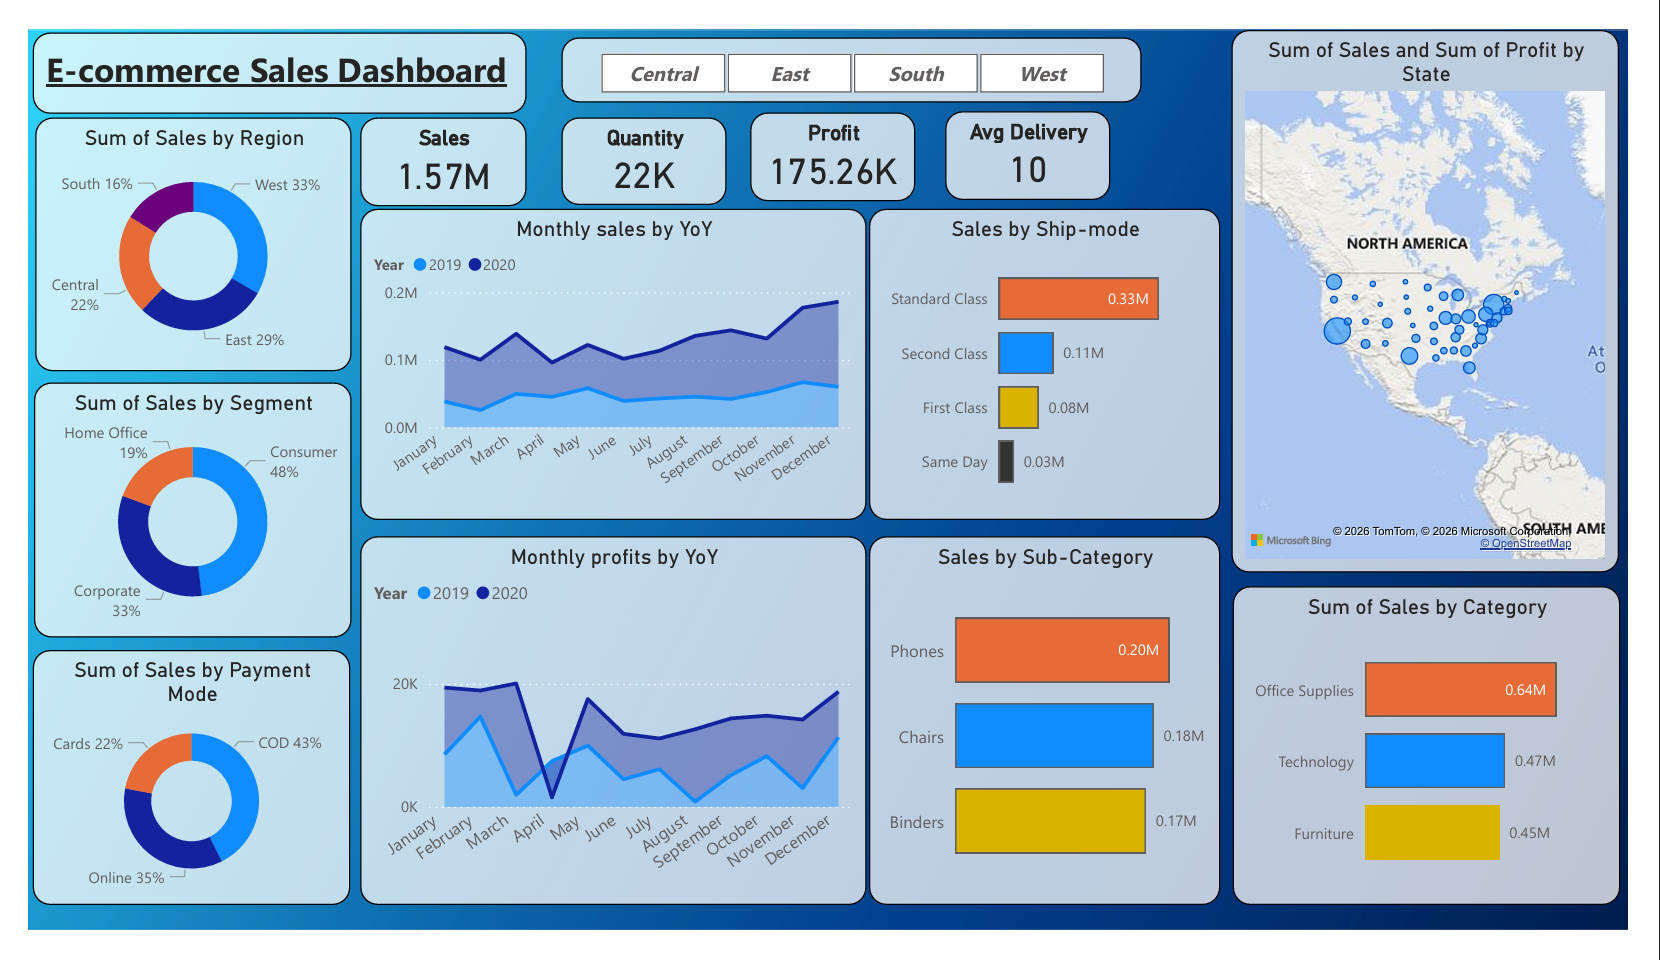

The dashboard page shown, as its layout file describes it:
{"tool":"powerbi","page":{"name":"Page 1","canvas":[1280,720],"ordinal":0},"visuals":[{"type":"clusteredBarChart","fields":{"Category":["SuperStore_Sales_Dataset.Category"],"Y":["Sum(SuperStore_Sales_Dataset.Sales)"]},"box":[962.8,445.4,310.5,254.7],"z":0},{"type":"clusteredBarChart","title":"Sales by Sub-Category","fields":{"Category":["SuperStore_Sales_Dataset.Sub-Category"],"Y":["Sum(SuperStore_Sales_Dataset.Sales)"]},"box":[672.1,404.7,281.4,295.3],"z":1000},{"type":"clusteredBarChart","title":"Sales by Ship-mode","fields":{"Category":["SuperStore_Sales_Dataset.Ship Mode"],"Y":["Sum(SuperStore_Sales_Dataset.Sales)"]},"box":[672.1,143,281.4,248.8],"z":2000},{"type":"stackedAreaChart","title":"Monthly sales by YoY","fields":{"Category":["SuperStore_Sales_Dataset.Order Date.Variation.Date Hierarchy.Month","SuperStore_Sales_Dataset.Order Date.Variation.Date Hierarchy.Day"],"Y":["Sum(SuperStore_Sales_Dataset.Sales)"],"Series":["SuperStore_Sales_Dataset.Order Date.Variation.Date Hierarchy.Year"]},"box":[265.1,143,404.7,248.8],"z":3000},{"type":"stackedAreaChart","title":"Monthly profits by YoY","fields":{"Category":["SuperStore_Sales_Dataset.Order Date.Variation.Date Hierarchy.Month","SuperStore_Sales_Dataset.Order Date.Variation.Date Hierarchy.Day"],"Series":["SuperStore_Sales_Dataset.Order Date.Variation.Date Hierarchy.Year"],"Y":["Sum(SuperStore_Sales_Dataset.Profit)"]},"box":[265.1,404.7,404.7,295.3],"z":4000},{"type":"map","fields":{"Category":["SuperStore_Sales_Dataset.State"],"Size":["Sum(SuperStore_Sales_Dataset.Sales)"]},"box":[961.6,0,310.5,433.7],"z":5000},{"type":"donutChart","fields":{"Category":["SuperStore_Sales_Dataset.Segment"],"Y":["Sum(SuperStore_Sales_Dataset.Sales)"]},"box":[4.1,282.3,253.6,203.3],"z":6000},{"type":"donutChart","fields":{"Y":["Sum(SuperStore_Sales_Dataset.Sales)"],"Category":["SuperStore_Sales_Dataset.Payment Mode"]},"box":[3.1,495.9,253.6,204.3],"z":7000},{"type":"slicer","fields":{"Values":["SuperStore_Sales_Dataset.Region"]},"box":[425.6,5.8,464,52.3],"z":8000},{"type":"textbox","box":[3.5,2.3,394.2,65.1],"z":9000},{"type":"card","title":"Sales","fields":{"Values":["Sum(SuperStore_Sales_Dataset.Sales)"]},"box":[265.1,69.8,132.6,70.9],"z":10000},{"type":"card","title":"Quantity","fields":{"Values":["Sum(SuperStore_Sales_Dataset.Quantity)"]},"box":[425.6,69.8,132.6,69.8],"z":11000},{"type":"card","title":"Profit","fields":{"Values":["Sum(SuperStore_Sales_Dataset.Profit)"]},"box":[576.7,66.3,132.6,70.9],"z":12000},{"type":"card","title":"Avg Delivery","fields":{"Values":["Avg(SuperStore_Sales_Dataset.AvgDelivery)"]},"box":[732.6,65.1,132.6,70.9],"z":13000},{"type":"donutChart","fields":{"Y":["Sum(SuperStore_Sales_Dataset.Sales)"],"Category":["SuperStore_Sales_Dataset.Region"]},"box":[4.7,69.8,253.5,203.5],"z":14000}]}

Visuals, with their boxes in screenshot pixels (x1, y1, x2, y2), scaled from the page's 1280x720 canvas onto the 1660x960 screenshot:
clusteredBarChart - SuperStore_Sales_Dataset.Category x Sum(SuperStore_Sales_Dataset.Sales): box(1249, 594, 1651, 933)
"Sales by Sub-Category" clusteredBarChart: box(872, 540, 1237, 933)
"Sales by Ship-mode" clusteredBarChart: box(872, 191, 1237, 522)
"Monthly sales by YoY" stackedAreaChart: box(344, 191, 869, 522)
"Monthly profits by YoY" stackedAreaChart: box(344, 540, 869, 933)
map - SuperStore_Sales_Dataset.State x Sum(SuperStore_Sales_Dataset.Sales): box(1247, 0, 1650, 578)
donutChart - SuperStore_Sales_Dataset.Segment x Sum(SuperStore_Sales_Dataset.Sales): box(5, 376, 334, 647)
donutChart - Sum(SuperStore_Sales_Dataset.Sales) x SuperStore_Sales_Dataset.Payment Mode: box(4, 661, 333, 934)
slicer - SuperStore_Sales_Dataset.Region: box(552, 8, 1154, 77)
textbox: box(5, 3, 516, 90)
"Sales" card: box(344, 93, 516, 188)
"Quantity" card: box(552, 93, 724, 186)
"Profit" card: box(748, 88, 920, 183)
"Avg Delivery" card: box(950, 87, 1122, 181)
donutChart - Sum(SuperStore_Sales_Dataset.Sales) x SuperStore_Sales_Dataset.Region: box(6, 93, 335, 364)
